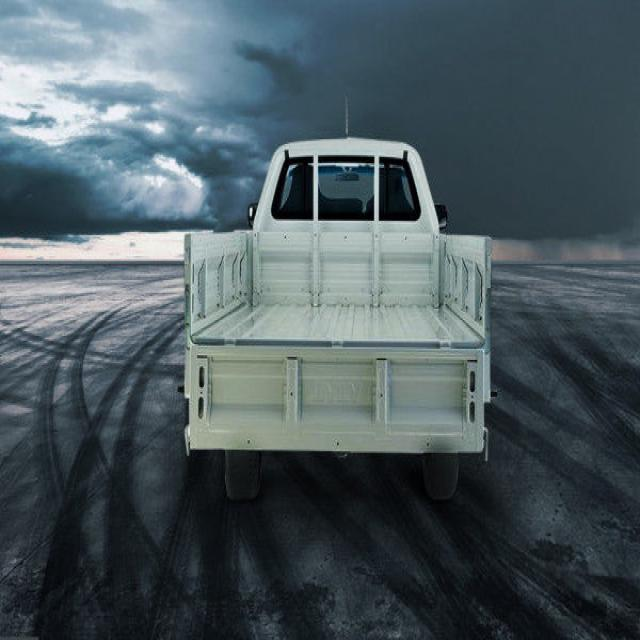light_vehicle: (175, 131, 500, 467)
